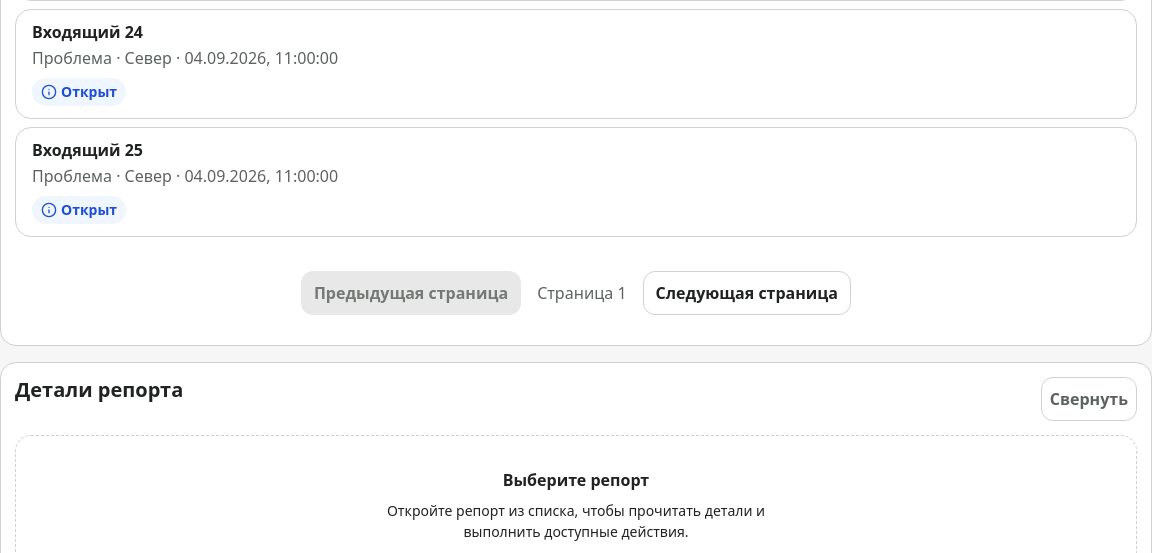
Test: pages the operator inbox without losing older reports
The image size is (1152, 553).
(page scrolled)
Click the button "Следующая страница".
click(747, 293)  # box 643,271 -> 851,315
(page scrolled)
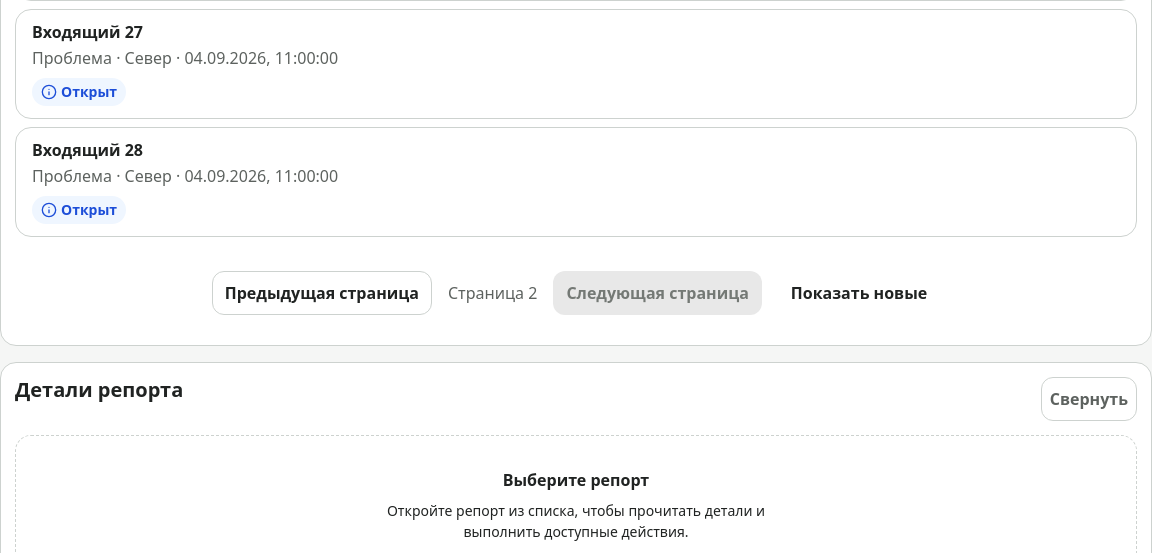
Click the button "Предыдущая страница".
click(322, 293)  # box 212,271 -> 432,315
(page scrolled)
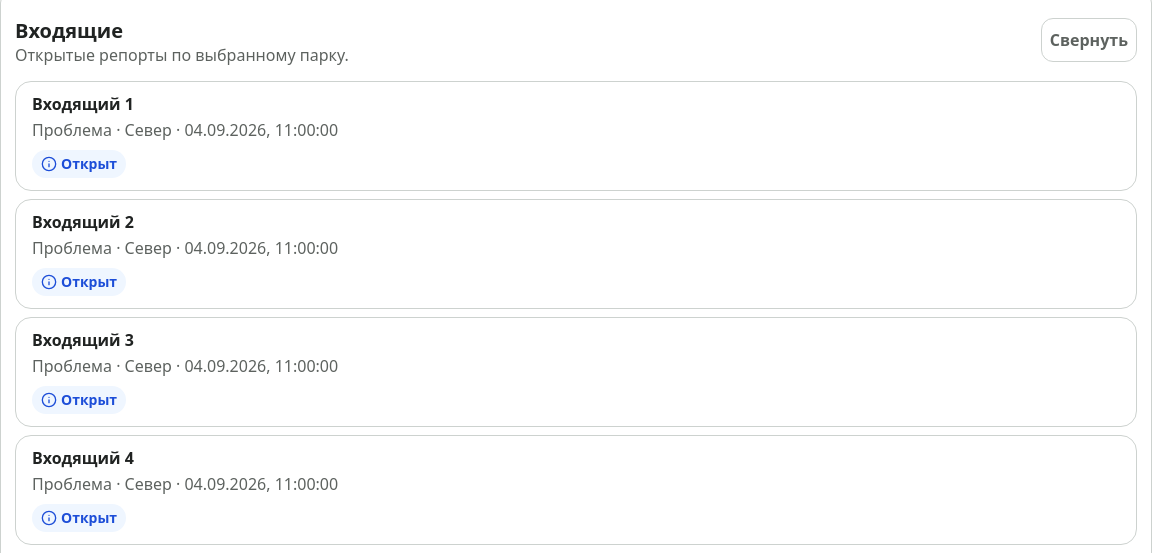
Expected: the button with aria-label "Открыть репорт Входящий 1" is shown, 15,81 -> 1137,191
